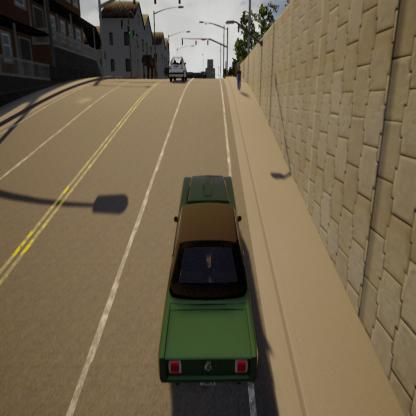Cars: (148, 166, 268, 388), (168, 53, 189, 86)
Pedestrian: (235, 62, 245, 94)
